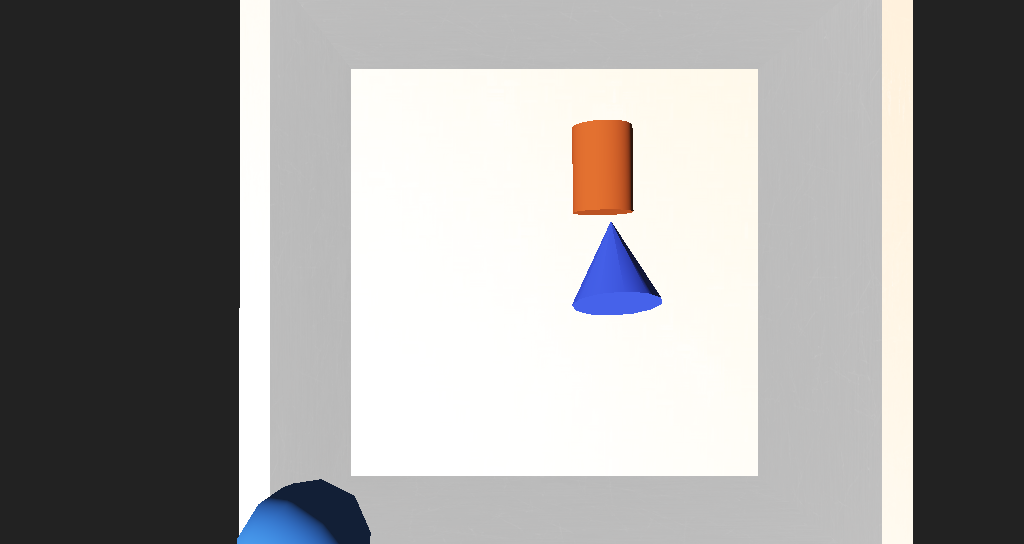cone: (522, 191, 569, 239)
cylinder: (522, 234, 583, 291)
sphere: (290, 363, 371, 420)
